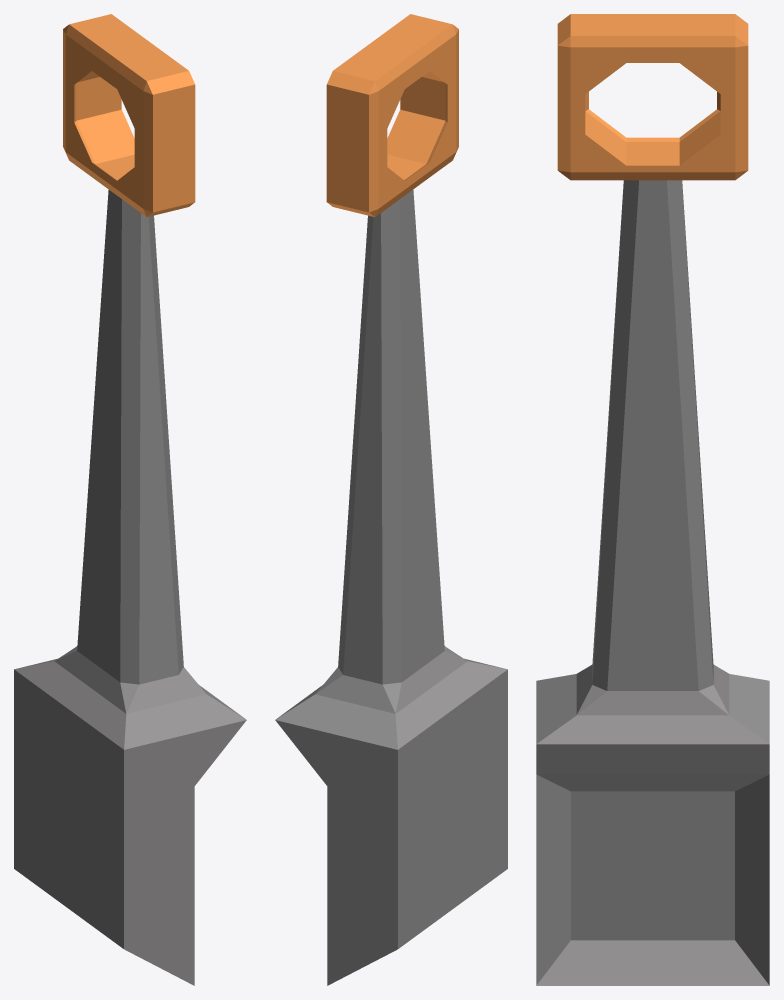
The model's file is Shovel.fbx.
The picture shows the model from 3 angles, left to right: view 1: azimuth 30°, elevation 25°; view 2: azimuth 150°, elevation 25°; view 3: azimuth 270°, elevation 25°; orthographic projection. The views are drawn at different scales.
Parts seen in each view (by area): view 1: Cube, Cube.001; view 2: Cube, Cube.001; view 3: Cube, Cube.001.
Boxes of the visible parts, x1,y1,x2,y2 form: Cube: [14, 190, 246, 985]; Cube.001: [63, 14, 195, 216]; Cube: [275, 190, 507, 985]; Cube.001: [326, 14, 458, 216]; Cube: [536, 180, 769, 985]; Cube.001: [557, 14, 748, 180].
Bounding box in the file's own units: 129 × 903 × 200.
